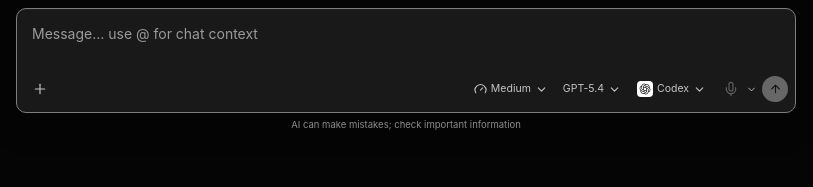
Test case: composer attachments › opens the task-scoped native picker from Chat
The width and height of the screenshot is (813, 187).
Click the button named "Attach files or images from your computer" at (40, 89), box top-left (24, 73), bottom-right (56, 105)
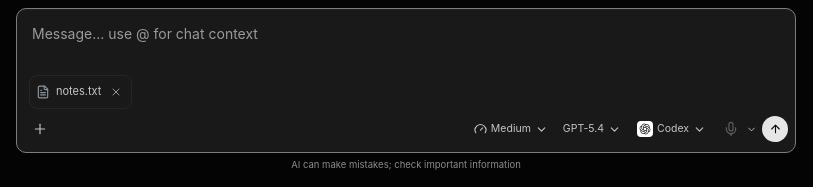
Expected: the text "notes.txt" is shown, top-left (56, 84), bottom-right (101, 100)
